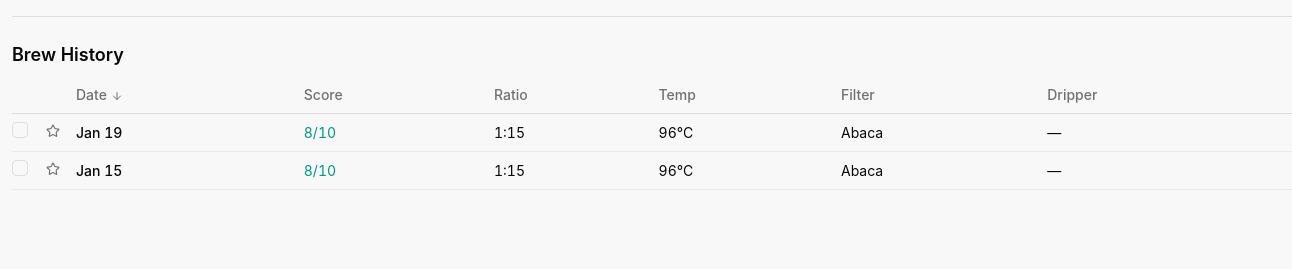
Test case: BrewHistoryTable — comparison selection › enables Compare button when 2 or more brews are selected
This screenshot has width=1292, height=269.
Click the checkbox named "Select brew from Jan 19 for comparison". click: (20, 130)
box: 12,122 -> 28,138
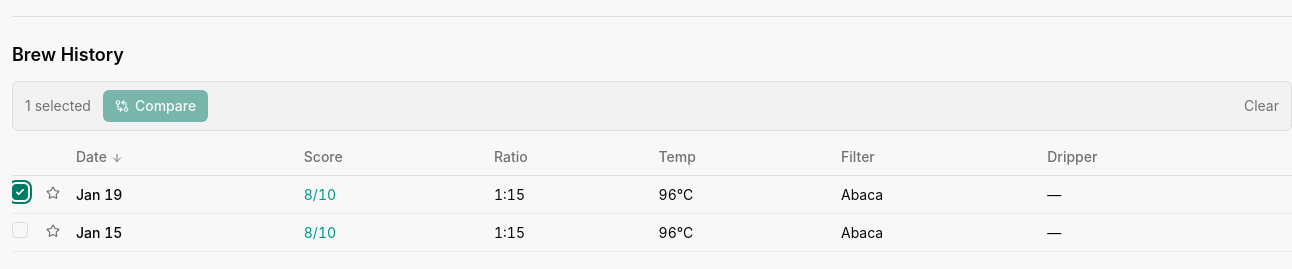
Click the checkbox named "Select brew from Jan 15 for comparison". click: (20, 230)
box: 12,222 -> 28,238
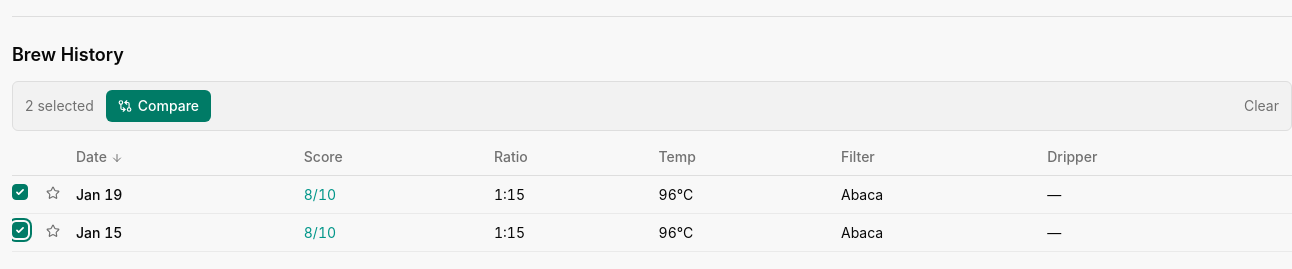
Expected: the button "Compare" is enabled, 106,90 -> 211,122
